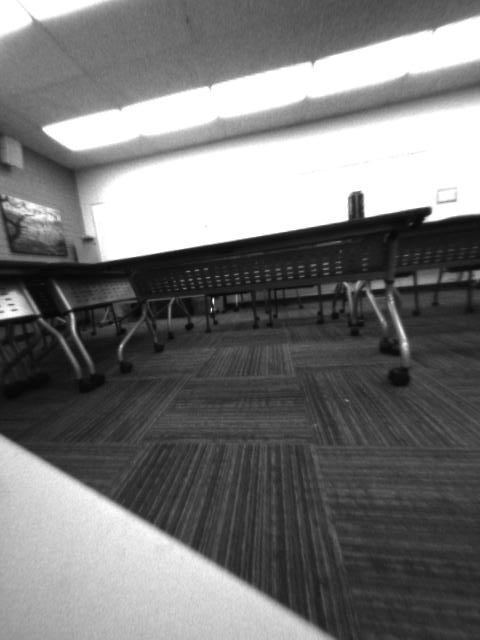can: (345, 189, 368, 225)
